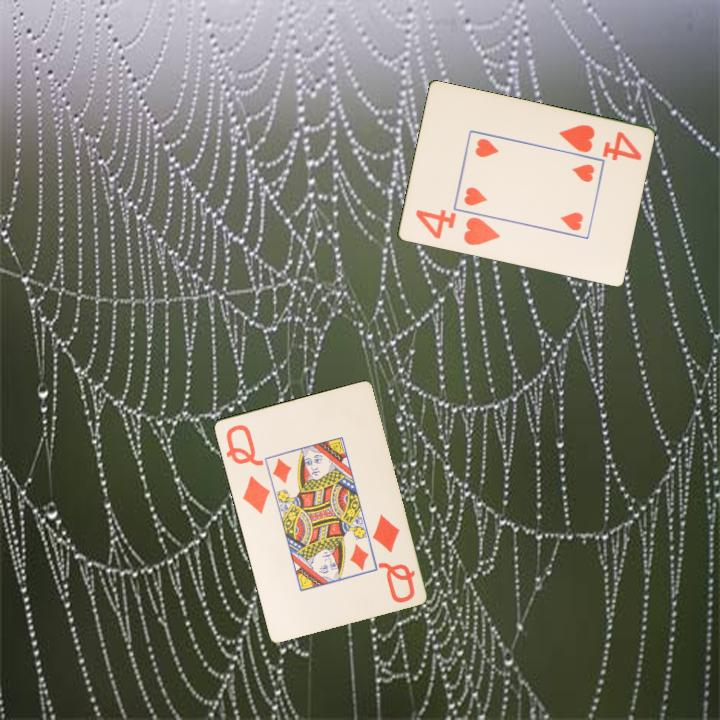4h: (412, 206, 502, 249), (555, 121, 644, 164)
Qd: (222, 421, 273, 517), (368, 510, 418, 607)
